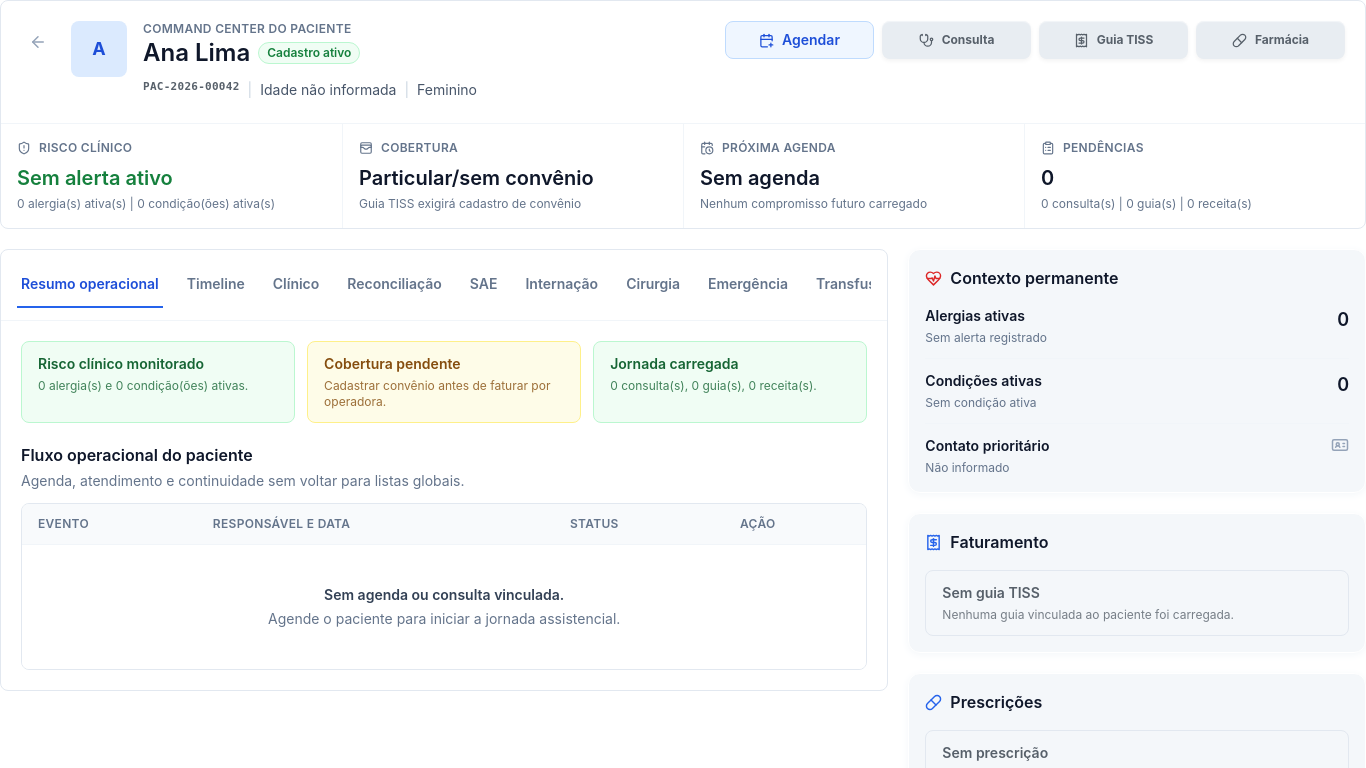
Test: PatientDetailPage › exposes a Cirurgia tab that renders the surgical case panel
Expected: the heading "Ana Lima" is shown, [143,37,250,69]
Step 1. Click the button "Cirurgia" → (653, 285), box [622,262,684,308]
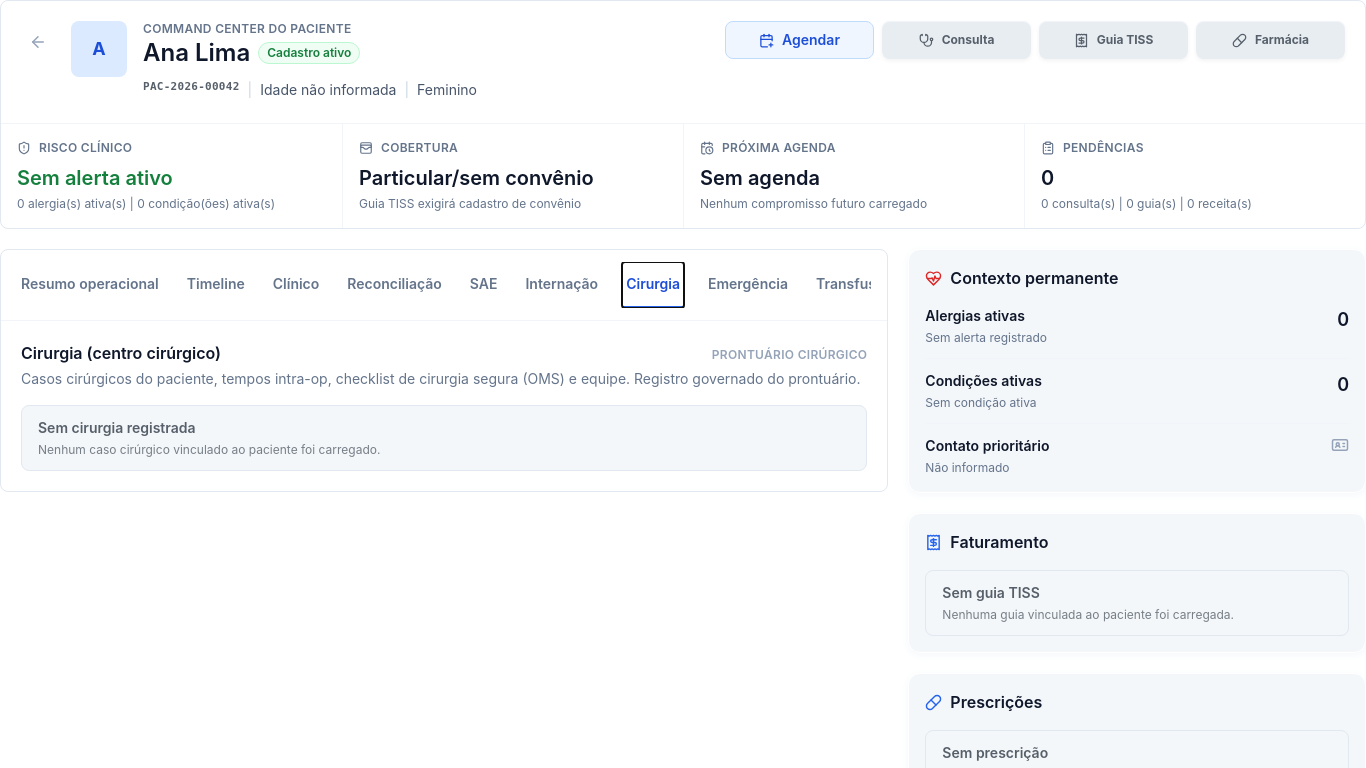
Expected: the text "Sem cirurgia registrada" is shown, [38,419,196,436]
